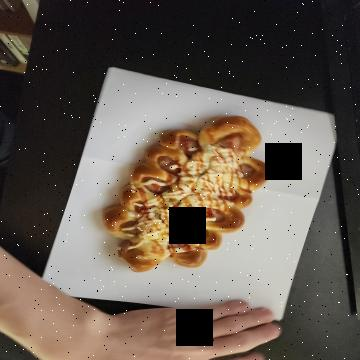pizza_bread: (114, 92, 269, 269)
